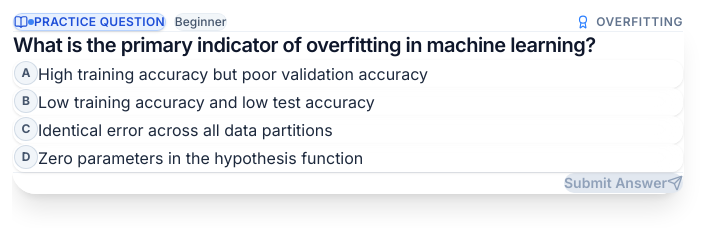
Scenario: QuestionCard component › keeps the submit button disabled until an option is selected
The image size is (702, 228).
Expected: the button "Submit Answer" is disabled, [564,172,683,192]
// Select an option
Click the text "High training accuracy but poor validation accuracy" at (233, 74), box [38,64,428,84]
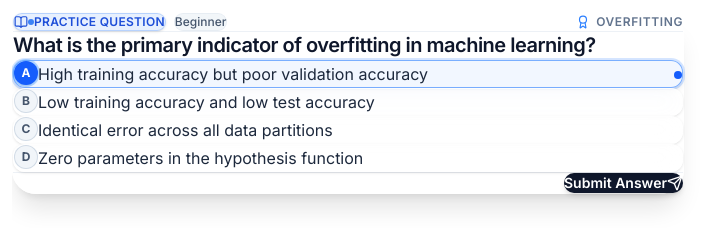
Expected: the button "Submit Answer" is enabled, [564,172,683,192]
